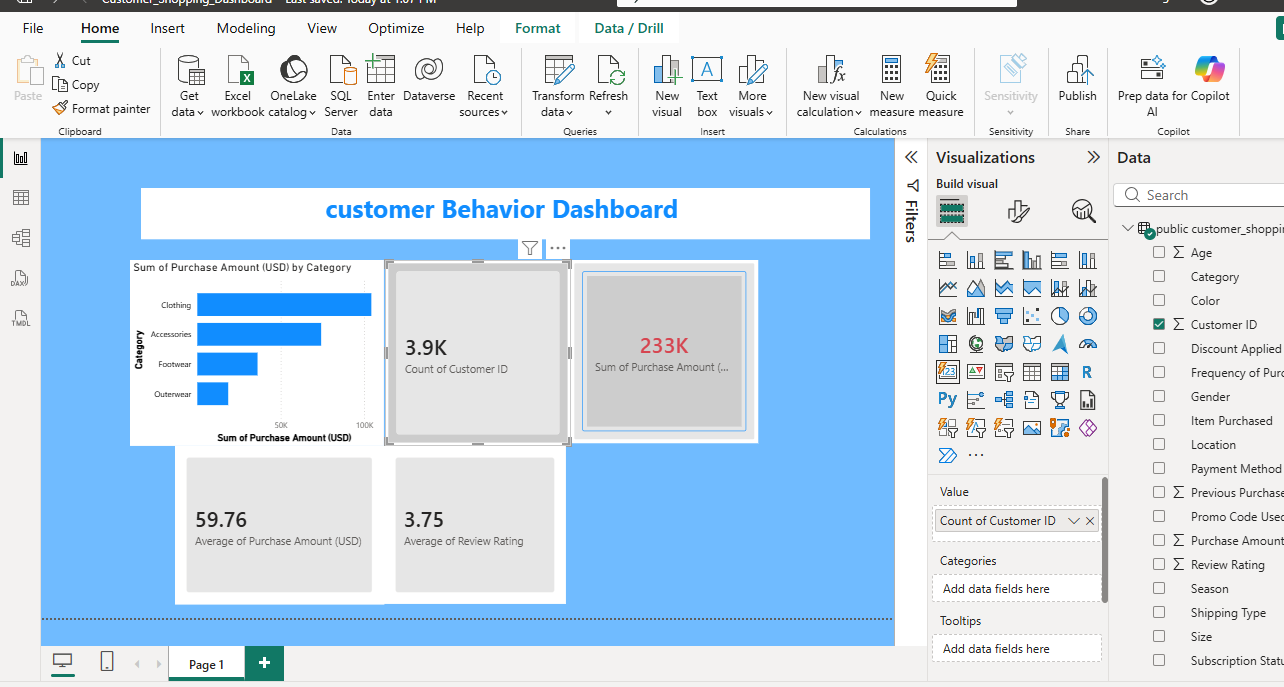

What the dashboard file says about the page in this screenshot:
{"tool":"powerbi","page":{"name":"Page 1","canvas":[1280,720],"ordinal":0},"visuals":[{"type":"cardVisual","fields":{"Data":["Sum(public customer_shopping.Purchase Amount (USD))"]},"box":[795.3,183.1,280.6,274.6],"z":0},{"type":"cardVisual","fields":{"Data":["CountNonNull(public customer_shopping.Customer ID)"]},"box":[515.5,182.9,279.4,279.4],"z":1000},{"type":"textbox","box":[149.5,75.6,1093.5,77.3],"z":2000},{"type":"barChart","fields":{"Category":["public customer_shopping.Category"],"Y":["Sum(public customer_shopping.Purchase Amount (USD))"]},"box":[133.6,183.1,381.1,279.1],"z":2002},{"type":"cardVisual","fields":{"Data":["Avg(public customer_shopping.Purchase Amount (USD))"]},"box":[201.6,462.2,313.9,237.6],"z":2003},{"type":"cardVisual","fields":{"Data":["Avg(public customer_shopping.Review Rating)"]},"box":[514.7,462.2,273.1,237.1],"z":2004}]}

Visuals, with their boxes on the page's 1280x720 design canvas (x1, y1, x2, y2). These are canvas units, not pixel positions in the 1284x687 screenshot, which may show the page scaled, cropped or inside an application window:
cardVisual - Sum(public customer_shopping.Purchase Amount (USD)): (795,183,1076,458)
cardVisual - CountNonNull(public customer_shopping.Customer ID): (516,183,795,462)
textbox: (150,76,1243,153)
barChart - public customer_shopping.Category x Sum(public customer_shopping.Purchase Amount (USD)): (134,183,515,462)
cardVisual - Avg(public customer_shopping.Purchase Amount (USD)): (202,462,516,700)
cardVisual - Avg(public customer_shopping.Review Rating): (515,462,788,699)
